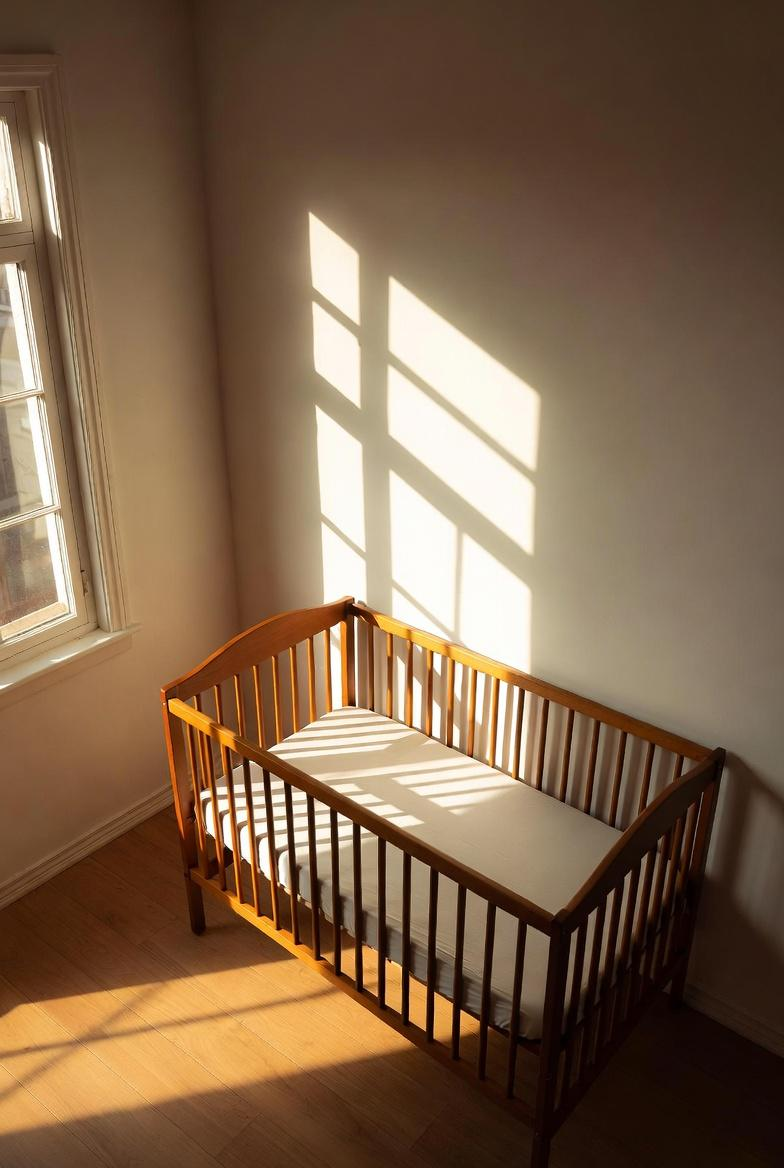crib: (160, 592, 728, 1168)
